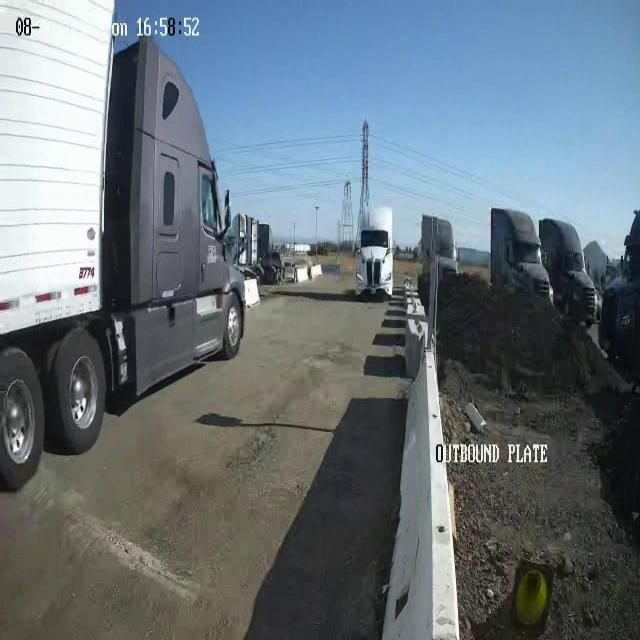TRUCK_IN: (1, 2, 248, 490)
